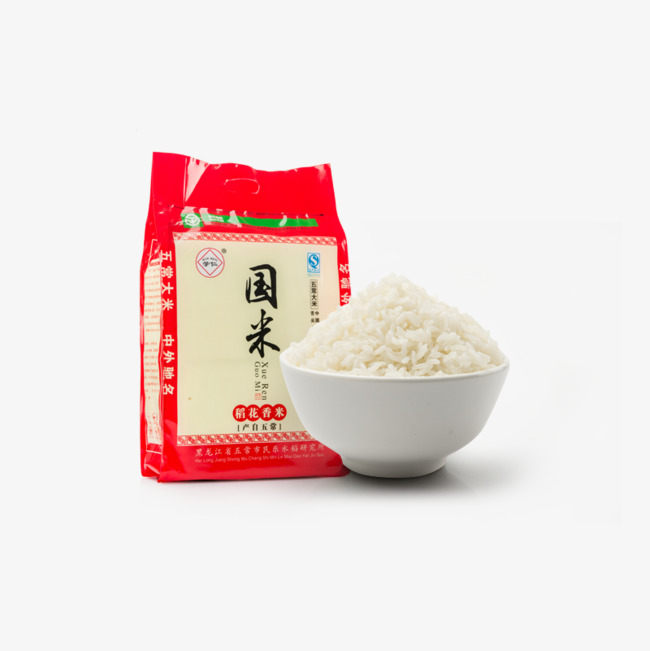plain rice: (290, 270, 505, 376)
